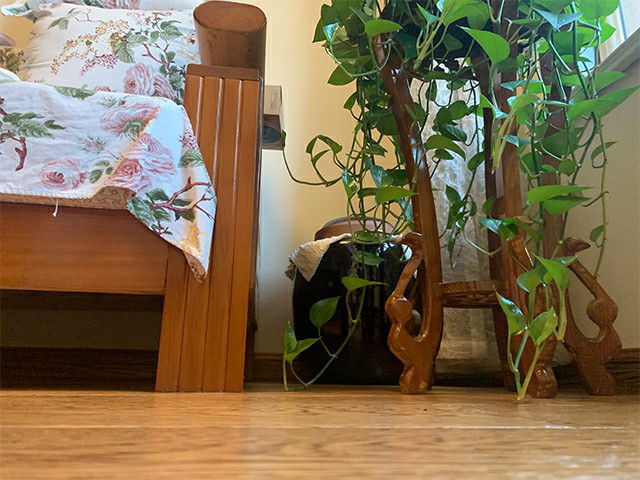sofa: (1, 1, 284, 393)
